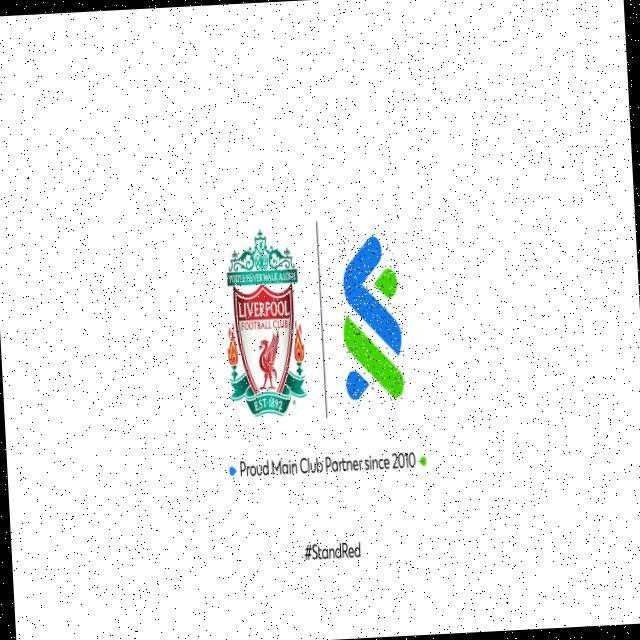Standard Chartered: (338, 232, 407, 407)
